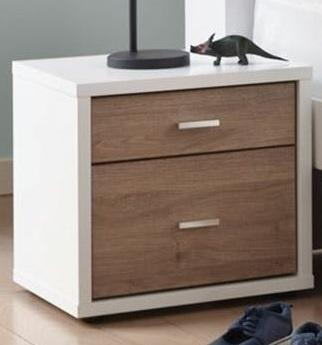cabinet_door: (93, 157, 296, 281), (94, 90, 296, 152)
handle: (175, 209, 225, 236), (172, 113, 224, 134)
